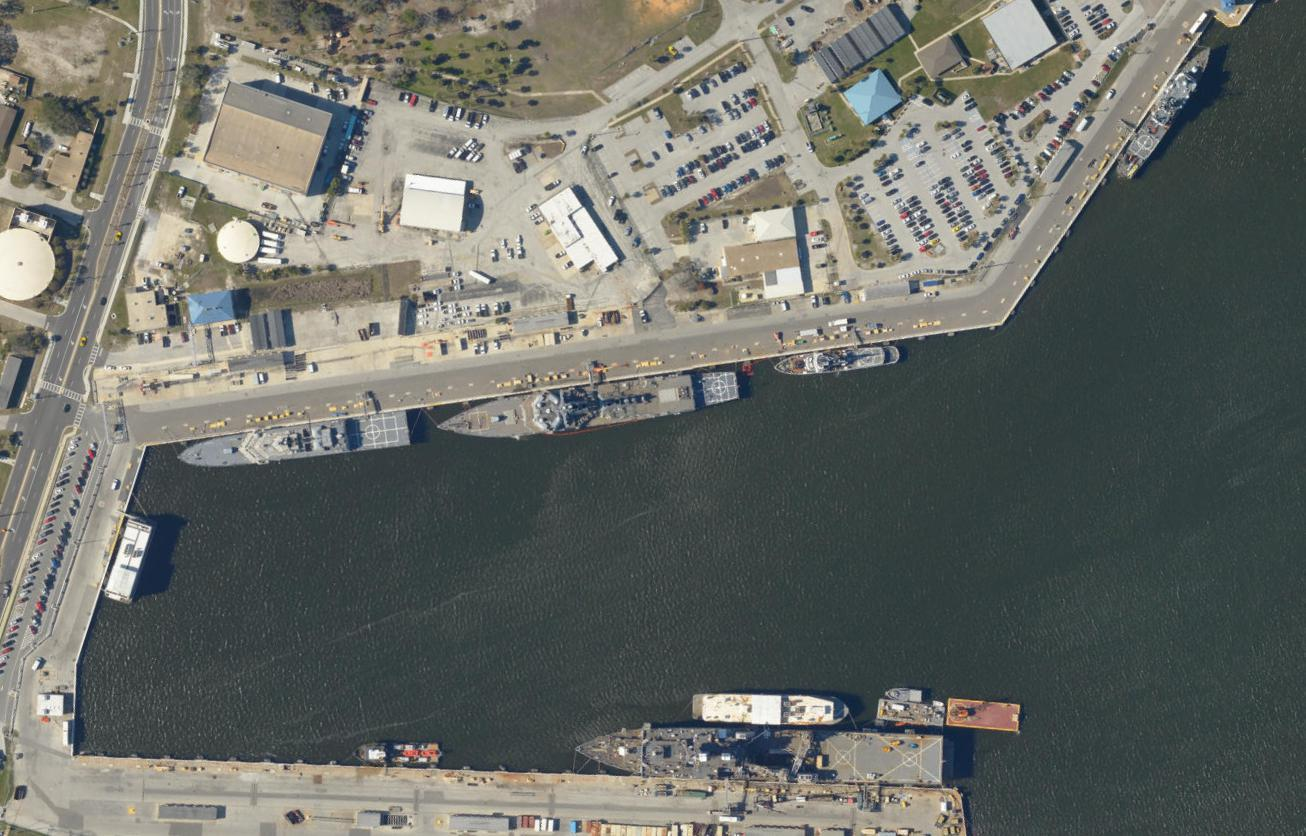fregate: (435, 363, 742, 444)
patrol: (171, 404, 418, 472)
